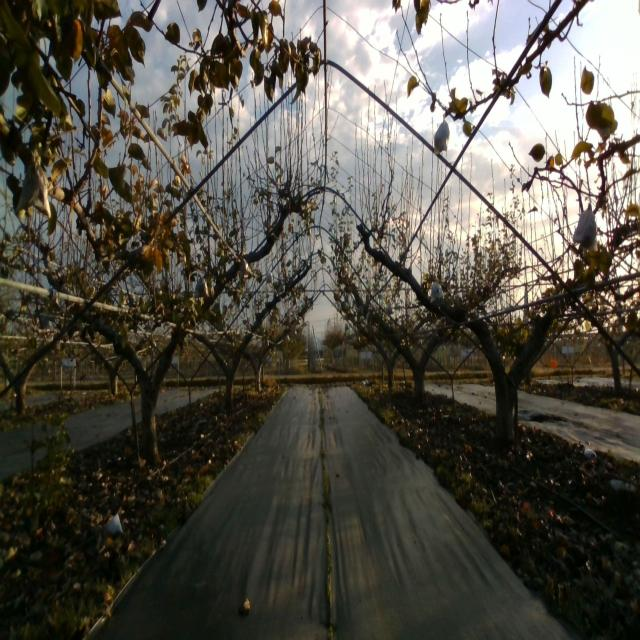pearbags: (15, 155, 51, 219), (572, 203, 598, 252), (434, 114, 449, 155), (238, 258, 254, 280), (195, 276, 210, 298), (431, 281, 444, 301)
